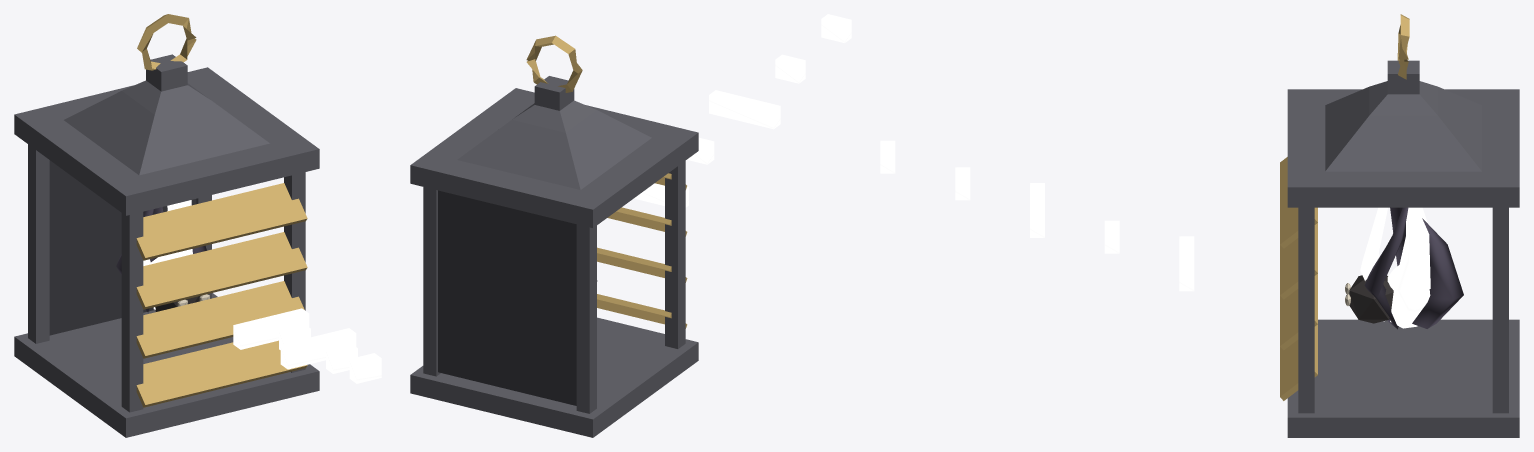
Rendered from ember-signal-flame.glb.
3 renders of one model, left to right at view 1: azimuth 30°, elevation 25°; view 2: azimuth 150°, elevation 25°; view 3: azimuth 270°, elevation 25°, orthographic. The views are drawn at different scales.
Parts seen in each view (by area): view 1: ember_signal_flame; view 2: ember_signal_flame; view 3: ember_signal_flame.
Boxes of the visible parts, x1,y1,x2,y2 form: ember_signal_flame: (14, 14, 381, 437); ember_signal_flame: (410, 14, 851, 437); ember_signal_flame: (880, 14, 1519, 437).
Size of the model in its own units: 0.31 by 0.5519 by 0.855.
